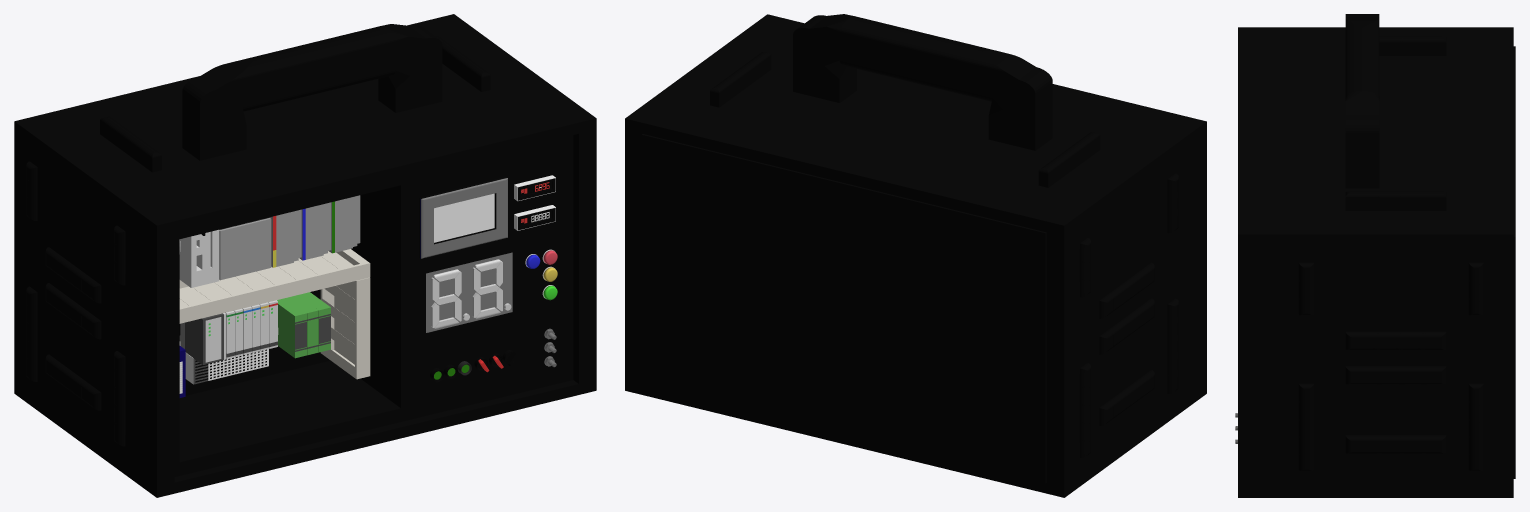
Rendered from Case.fbx.
3 renders of one model, left to right at view 1: azimuth 30°, elevation 25°; view 2: azimuth 150°, elevation 25°; view 3: azimuth 270°, elevation 25°, orthographic. The views are drawn at different scales.
Visible parts, largest first — view 1: Kufrik; view 2: Kufrik; view 3: Kufrik.
Part boxes in pixels (left/top/right/bottom): Kufrik: left=14, top=14, right=596, bottom=497; Kufrik: left=625, top=14, right=1206, bottom=497; Kufrik: left=1238, top=14, right=1515, bottom=497.
Bounding box in the file's own units: 66.12 × 50.9 × 36.87.
